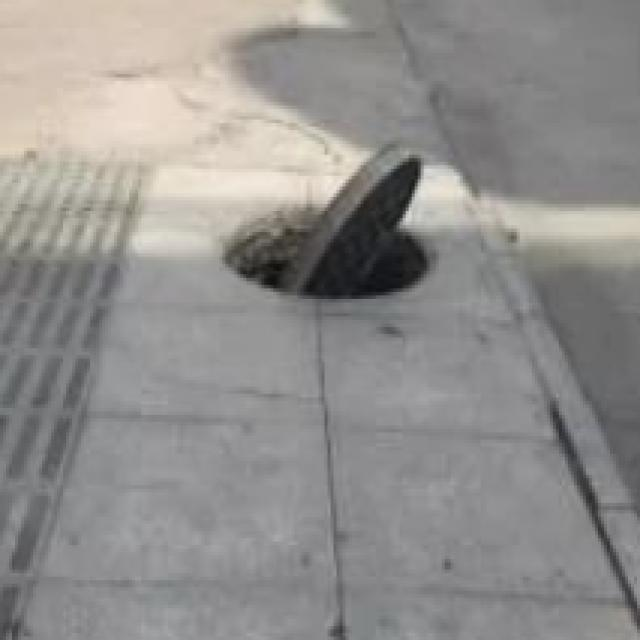manhole: (224, 150, 429, 298)
